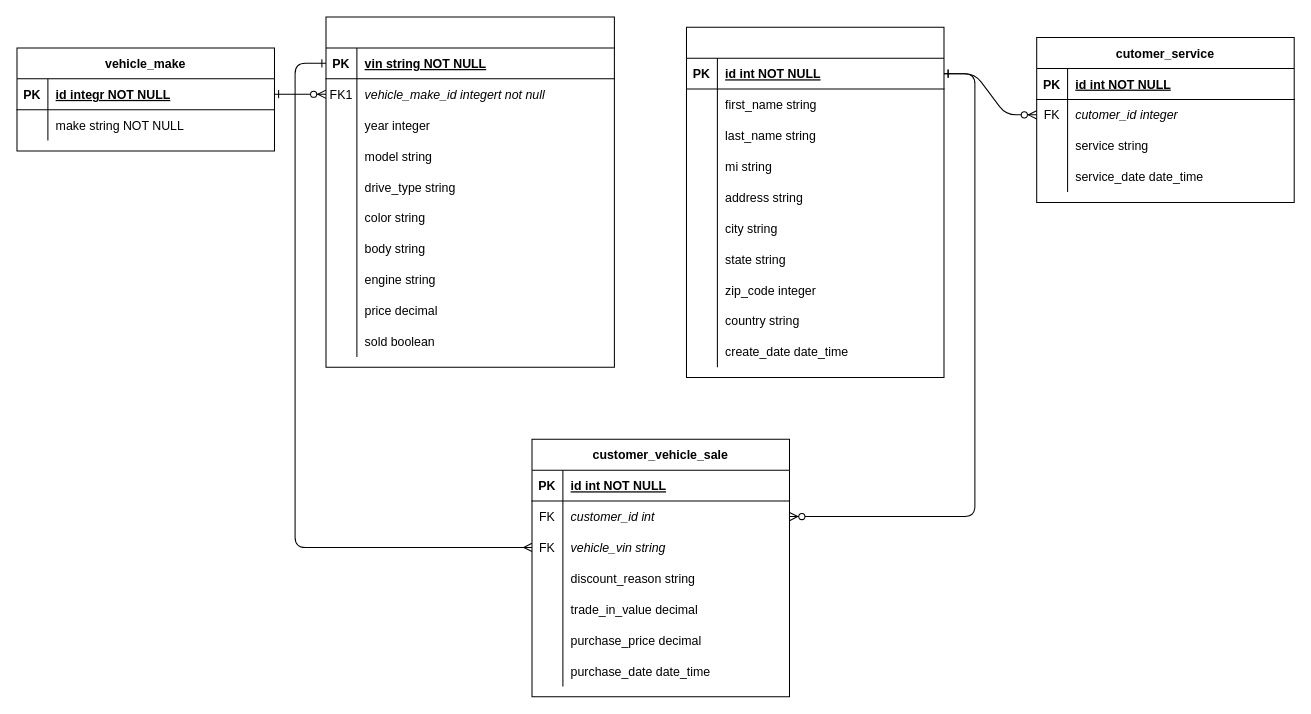
The diagram is 1311 pixels wide and 714 high, and some of its shapes have lost their labels. The shapes that lost their labels are listed below. From the top down, each one's box as (x1, y1, x2, y2) in pixels, then its label:
(325, 16, 614, 367): vehicle_model
(685, 26, 944, 377): customer
